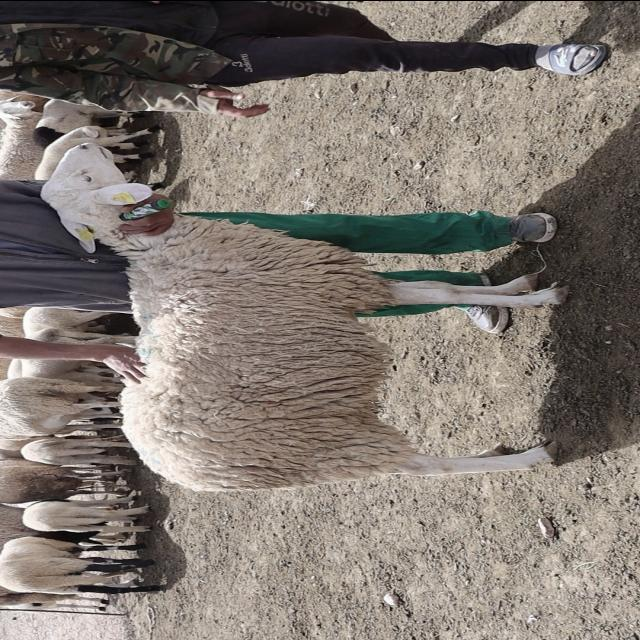Score_2: (41, 142, 566, 491)
